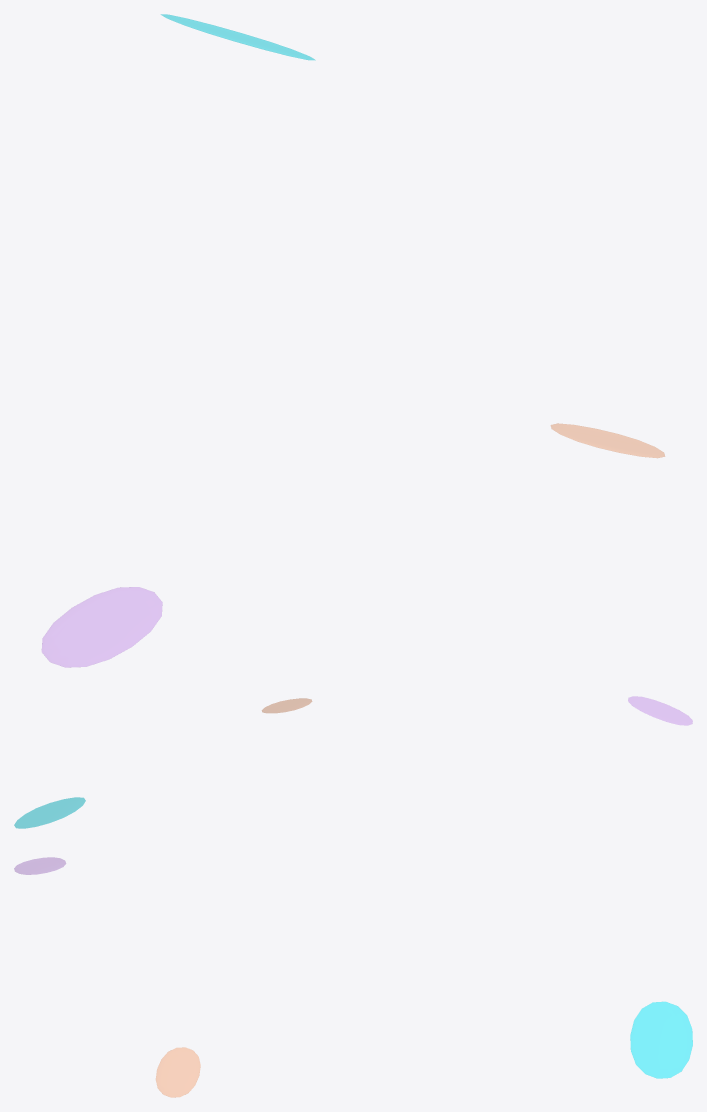
The model's file is UIPanels.glb.
3 views of the same model, one above another, from view 1: azimuth 30°, elevation 25°; view 2: azimuth 150°, elevation 25°; view 3: azimuth 270°, elevation 25° (orthographic). The views are drawn at different scales.
Parts seen in each view (by area): view 1: UIPanel_2, UIPanel_3, UIPanel_1; view 2: UIPanel_1, UIPanel_2, UIPanel_3; view 3: UIPanel_1, UIPanel_3, UIPanel_2.
Part boxes in pixels (x1=…): UIPanel_2: x1=41, y1=587, x2=162, y2=667; UIPanel_3: x1=550, y1=423, x2=664, y2=458; UIPanel_1: x1=161, y1=14, x2=315, y2=60; UIPanel_1: x1=14, y1=797, x2=85, y2=828; UIPanel_2: x1=628, y1=696, x2=692, y2=725; UIPanel_3: x1=262, y1=698, x2=312, y2=713; UIPanel_1: x1=630, y1=1001, x2=692, y2=1078; UIPanel_3: x1=155, y1=1047, x2=200, y2=1097; UIPanel_2: x1=14, y1=857, x2=65, y2=874.
Bounding box in the file's own units: 1.54 × 0.2491 × 1.97.
